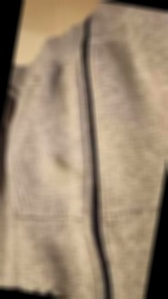oil: (48, 147, 70, 169)
